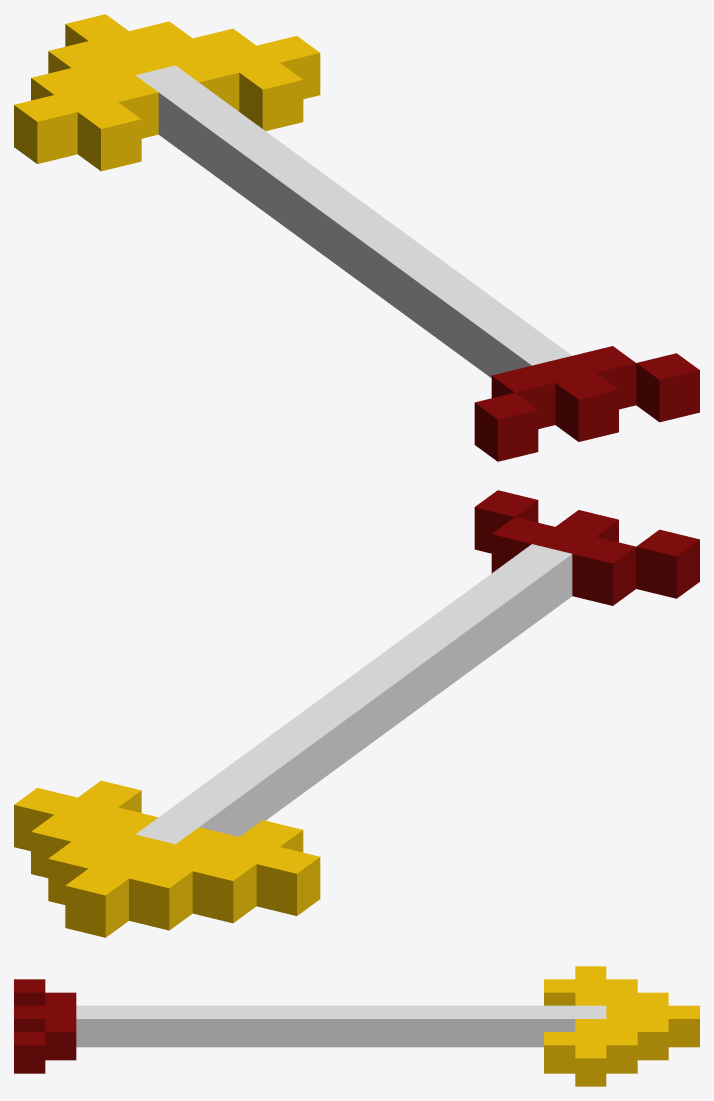
File: arrow.obj
3 views of the same model, one above another, from view 1: azimuth 30°, elevation 25°; view 2: azimuth 150°, elevation 25°; view 3: azimuth 270°, elevation 25° (orthographic). The views are drawn at different scales.
Bounding box in the file's own units: 7 × 1 × 22.
1 material, 1 textured.
